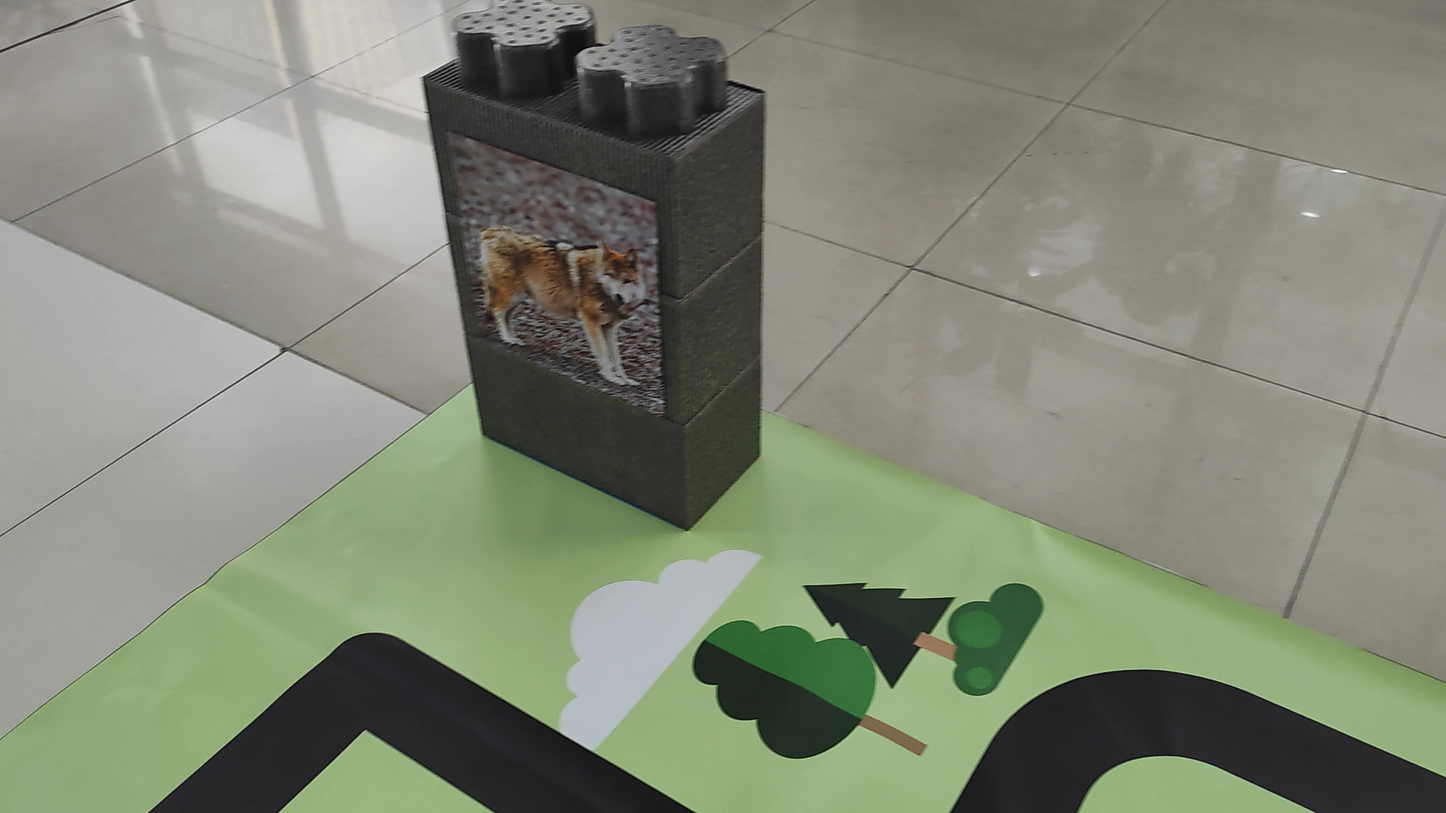wolf: (453, 142, 661, 407)
